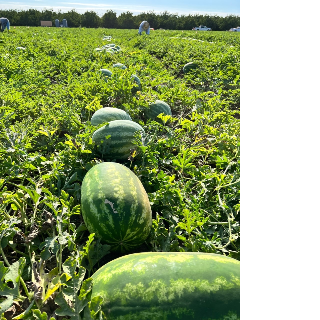dua_hau: (79, 252, 240, 320), (77, 161, 153, 243), (91, 120, 145, 160)
